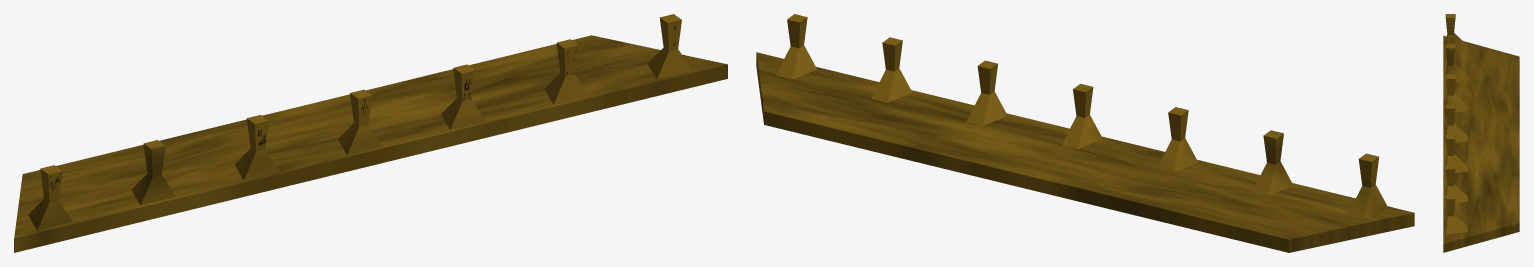
The model's file is Ornamento.fbx.
3 views of the same model, side by side, from view 1: azimuth 30°, elevation 25°; view 2: azimuth 150°, elevation 25°; view 3: azimuth 270°, elevation 25° (orthographic). The views are drawn at different scales.
Visible parts, largest first — view 1: Ornagmento; view 2: Ornagmento; view 3: Ornagmento.
Boxes of the visible parts, <box> form: Ornagmento: <box>14,14,727,252</box>; Ornagmento: <box>756,14,1414,252</box>; Ornagmento: <box>1443,14,1519,252</box>.
Size of the model in its own units: 2528 by 230 by 392.
